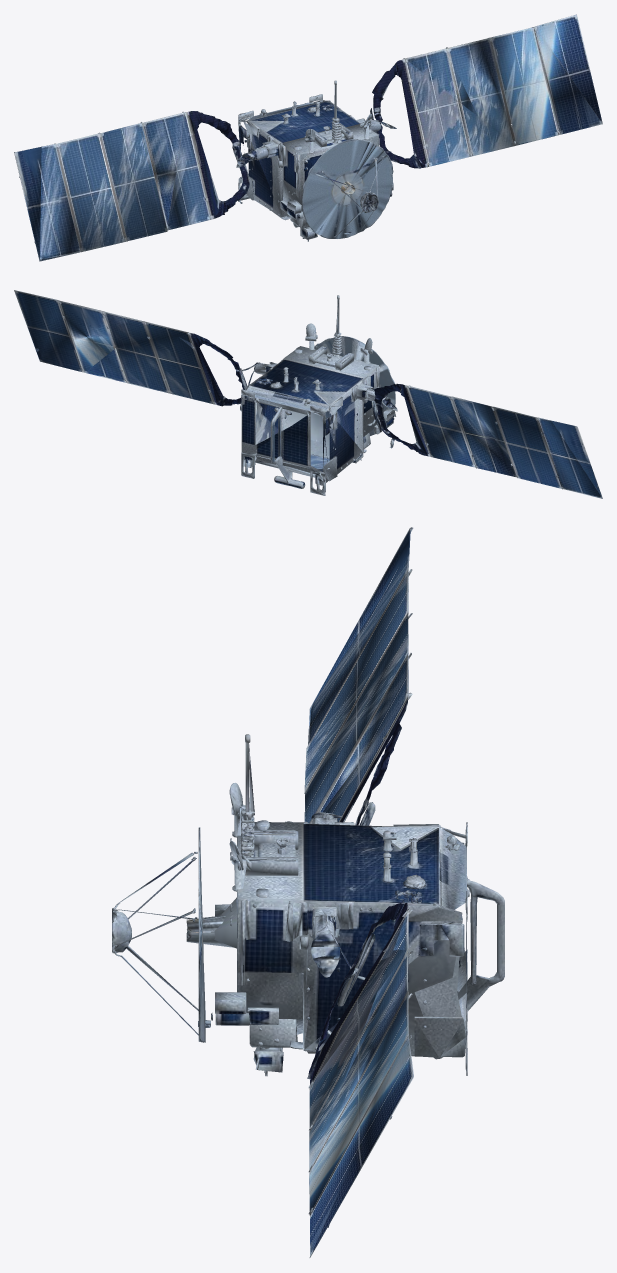
The model's file is satellite.glb.
3 renders of one model, top to bottom at view 1: azimuth 30°, elevation 25°; view 2: azimuth 150°, elevation 25°; view 3: azimuth 270°, elevation 25°, orthographic. The views are drawn at different scales.
Size of the model in its own units: 0.9492 by 0.2549 by 0.2871.
1 material, 1 textured.
